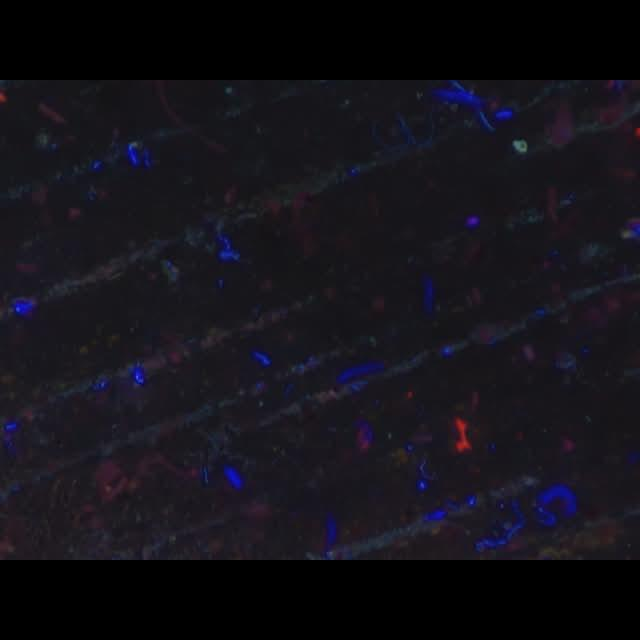Fragment: (455, 416, 471, 452)
microbeads: (512, 139, 528, 155)
